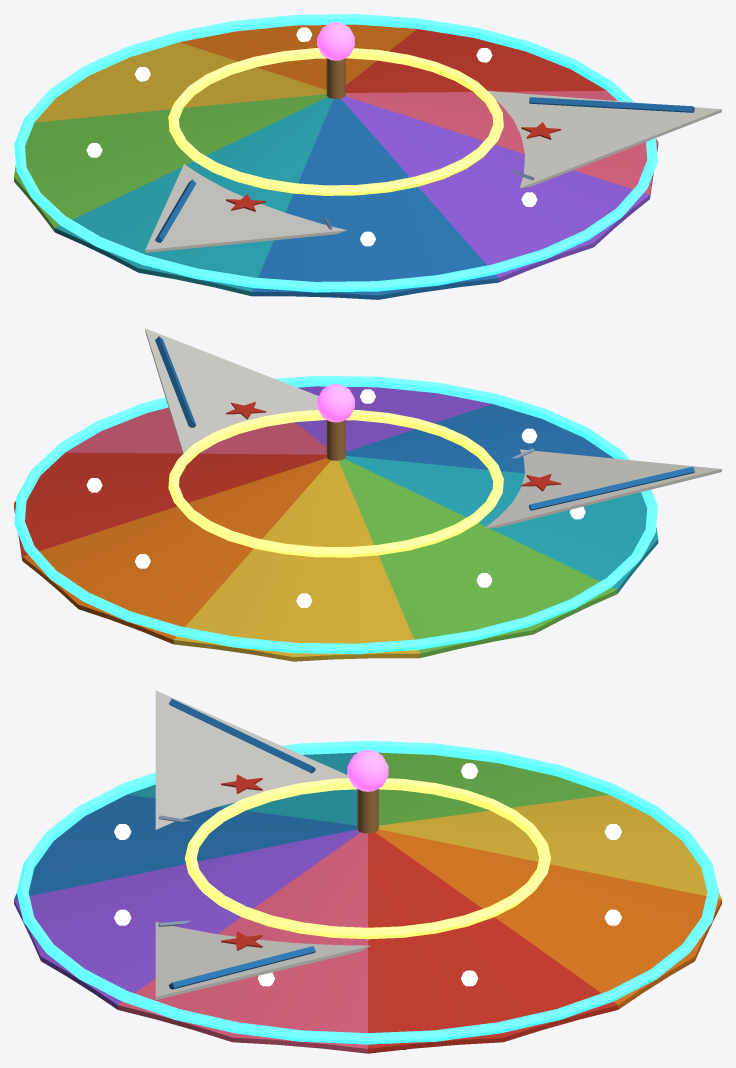
File: 2026-11-27_deltaplane.glb
3 renders of one model, top to bottom at view 1: azimuth 30°, elevation 25°; view 2: azimuth 150°, elevation 25°; view 3: azimuth 270°, elevation 25°, orthographic. The views are drawn at different scales.
Parts seen in each view (by area): view 1: deltaplane_toupie_planante, deltaplane_avion_en_papier; view 2: deltaplane_toupie_planante, deltaplane_avion_en_papier; view 3: deltaplane_toupie_planante, deltaplane_avion_en_papier.
Part boxes in pixels (left/top/right/bottom): deltaplane_toupie_planante: left=14, top=14, right=658, bottom=299; deltaplane_avion_en_papier: left=145, top=91, right=721, bottom=252; deltaplane_toupie_planante: left=14, top=375, right=658, bottom=661; deltaplane_avion_en_papier: left=145, top=328, right=721, bottom=528; deltaplane_toupie_planante: left=14, top=740, right=721, bottom=1053; deltaplane_avion_en_papier: left=155, top=690, right=405, bottom=1049.
Bounding box in the file's own units: 4.1 × 1.64 × 4.
